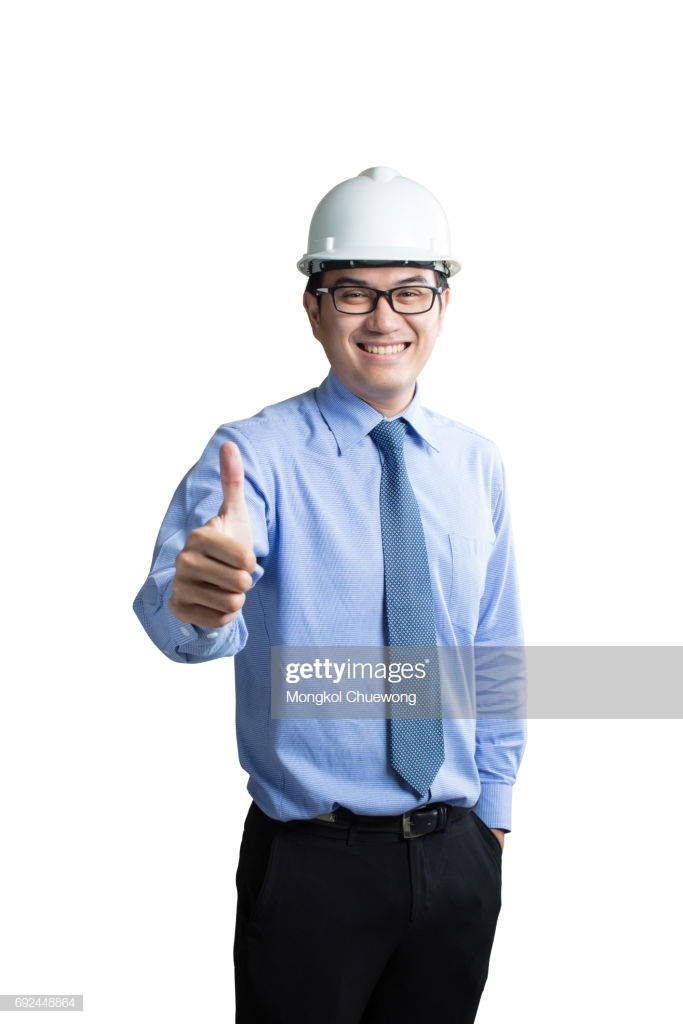thumbsup: (167, 441, 257, 627)
